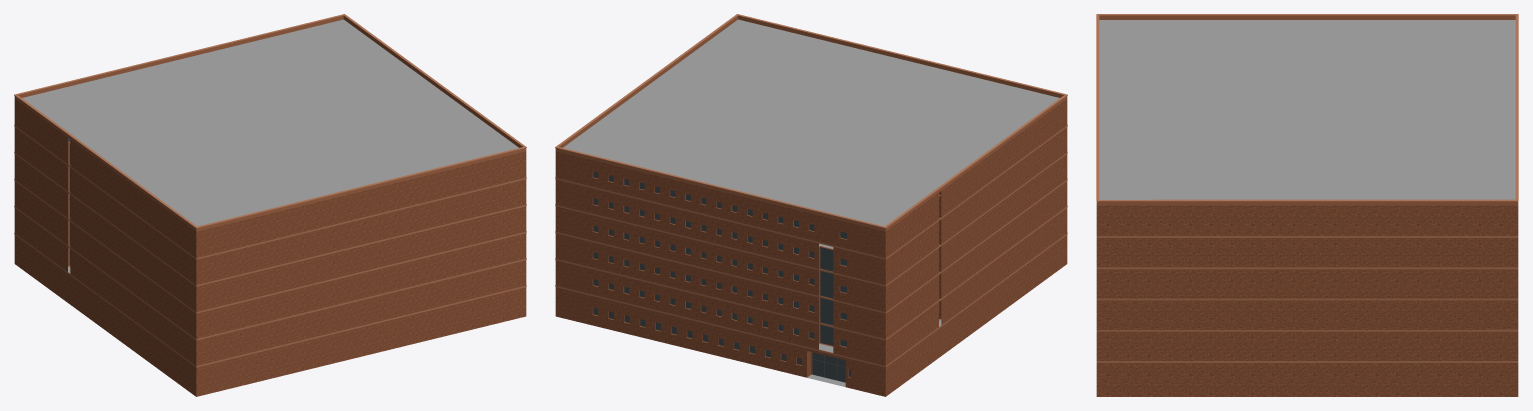
3 renders of one model, left to right at view 1: azimuth 30°, elevation 25°; view 2: azimuth 150°, elevation 25°; view 3: azimuth 270°, elevation 25°, orthographic. The views are drawn at different scales.
Visible parts, largest first — view 1: powerPlant__wall, powerPlant__roof, powerPlant__trim, powerPlant__parapet; view 2: powerPlant__wall, powerPlant__roof, powerPlant__trim, powerPlant__glass, powerPlant__parapet; view 3: powerPlant__wall, powerPlant__roof, powerPlant__trim, powerPlant__parapet.
Part boxes in pixels (<box>): powerPlant__wall: <box>14,99,526,396</box>; powerPlant__roof: <box>22,19,518,273</box>; powerPlant__trim: <box>14,14,526,367</box>; powerPlant__parapet: <box>14,15,526,231</box>; powerPlant__wall: <box>555,99,1067,396</box>; powerPlant__roof: <box>563,19,1059,386</box>; powerPlant__trim: <box>555,14,1067,367</box>; powerPlant__glass: <box>593,171,939,382</box>; powerPlant__parapet: <box>555,15,1067,231</box>; powerPlant__wall: <box>1096,205,1518,396</box>; powerPlant__roof: <box>1099,20,1515,199</box>; powerPlant__trim: <box>1096,14,1518,362</box>; powerPlant__parapet: <box>1096,15,1518,205</box>.
Bounding box in the file's own units: 51.38 × 25.1 × 49.02.
7 materials, 1 textured.
